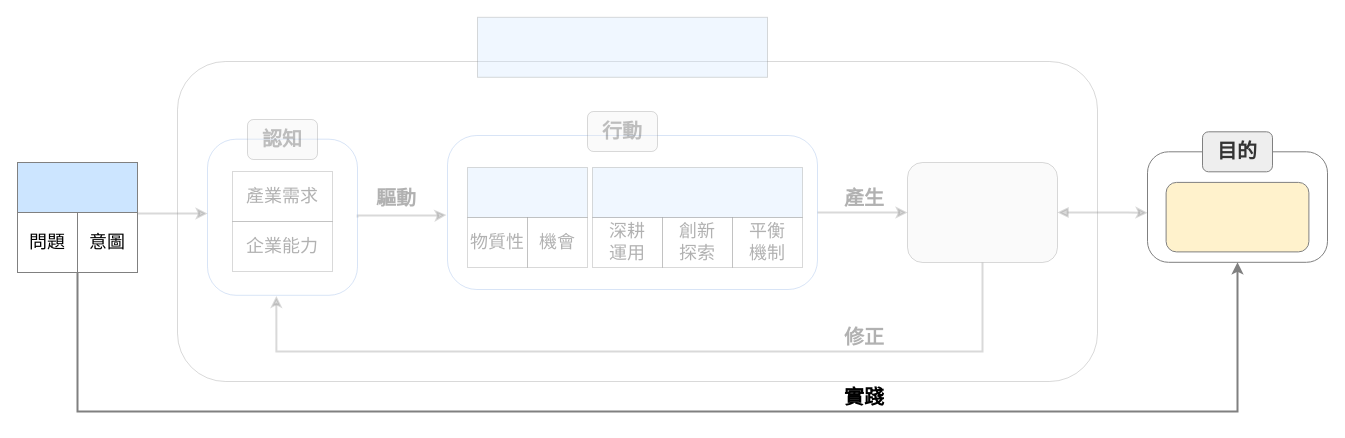
Some shapes in this 1345 by 438 pixel diagram are drawn without their labels. Here are the shapes that lost their labels. From the top down, the centre of each, then its label:
the point at 622,46: 科技可供性制定
the point at 77,187: 能動性
the point at 527,192: 探索 可供性
the point at 697,192: 雙元 可供性實現
the point at 982,212: 階段性 數位創新 結果
the point at 1237,216: 發展產業 數位創新平台
